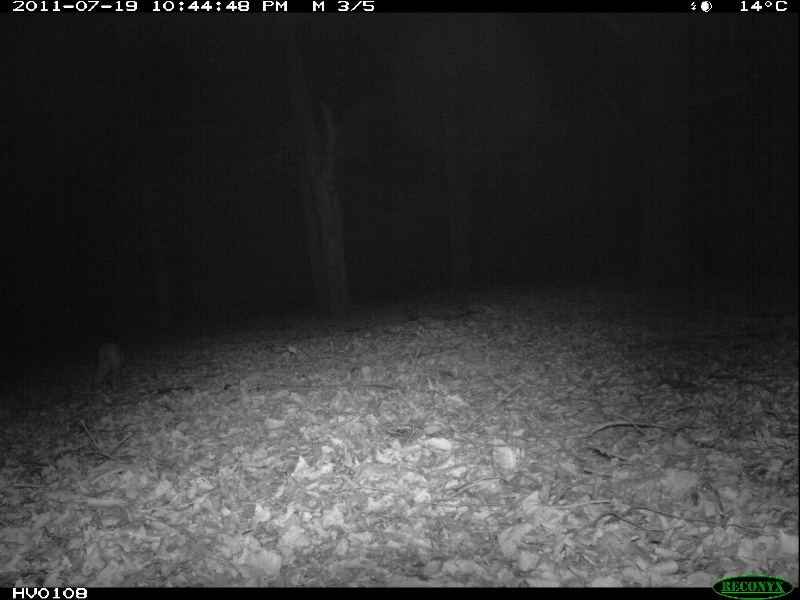fox: (92, 341, 130, 394)
